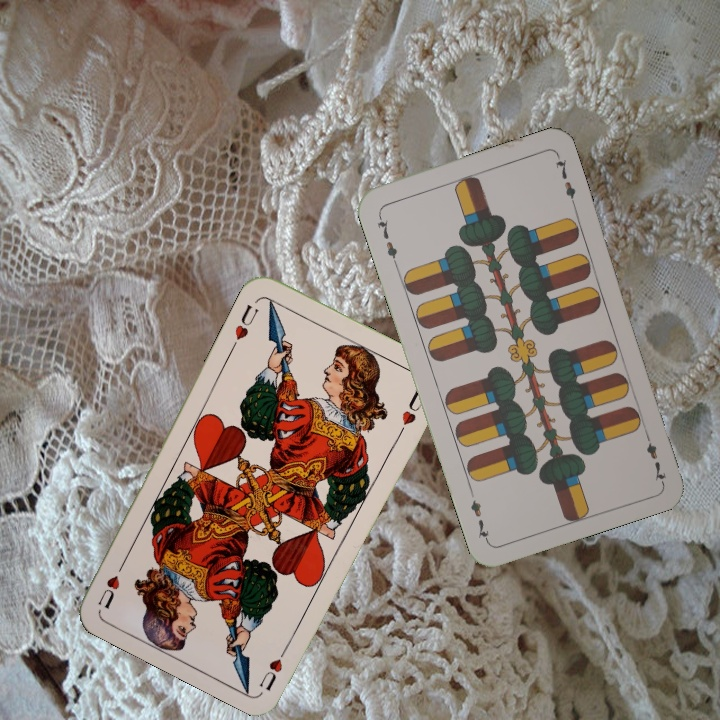E7: (640, 427, 669, 485), (373, 210, 400, 267)
HU: (254, 639, 293, 693), (227, 300, 262, 351)
